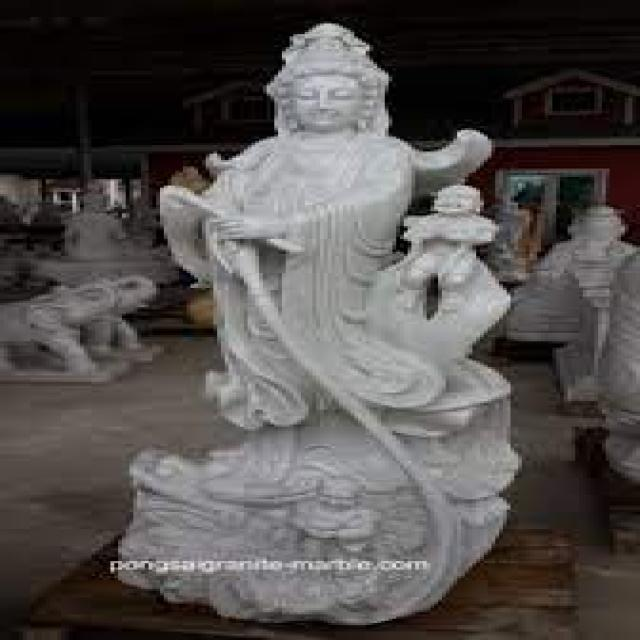Guan Yin: (184, 21, 432, 308)
